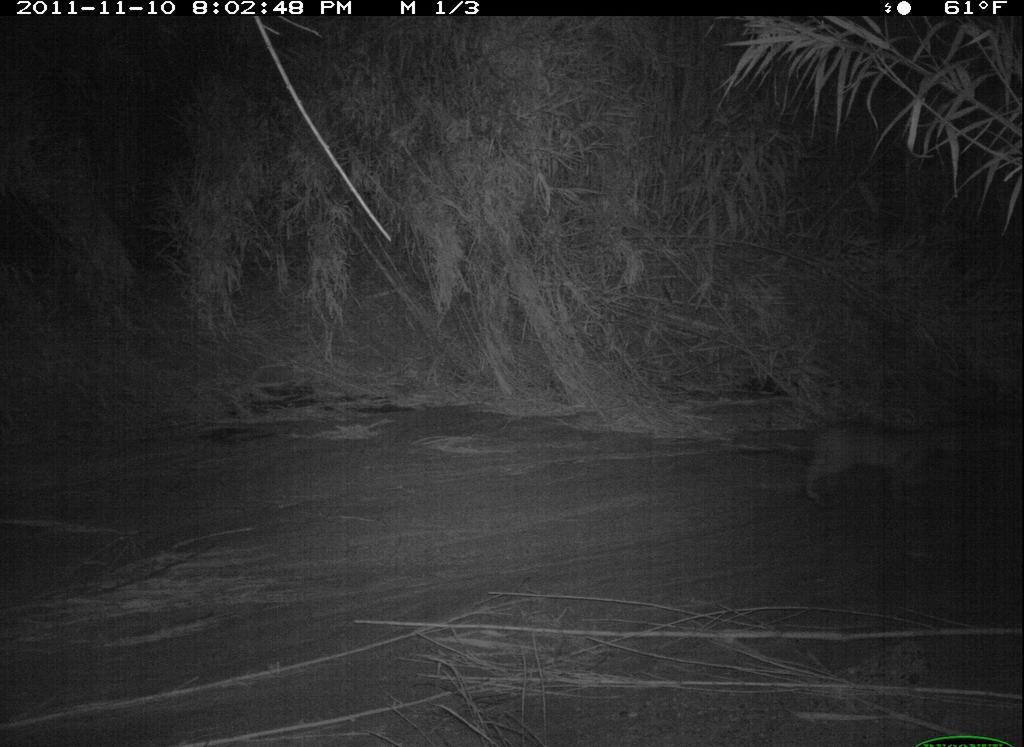bobcat: (780, 404, 976, 524)
